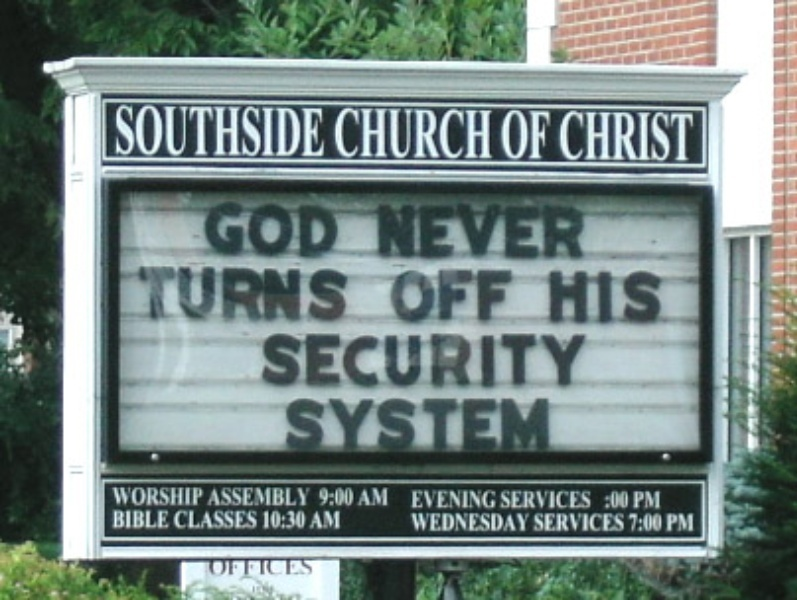text: (209, 200, 224, 259), (225, 200, 240, 259), (241, 200, 256, 259), (257, 200, 272, 259), (273, 200, 288, 259), (289, 200, 304, 259), (305, 200, 320, 259), (321, 200, 336, 259), (145, 263, 160, 322), (161, 263, 176, 322), (177, 263, 192, 322), (193, 263, 208, 322), (209, 263, 224, 322), (225, 263, 240, 322), (241, 263, 256, 322), (257, 263, 272, 322), (273, 263, 288, 322), (289, 263, 304, 322), (305, 263, 320, 322), (321, 263, 336, 322), (289, 395, 304, 454), (305, 395, 320, 454), (321, 395, 336, 454), (337, 395, 352, 454), (353, 395, 368, 454), (369, 395, 384, 454), (385, 395, 400, 454), (401, 395, 416, 454), (417, 395, 432, 454), (433, 395, 448, 454), (449, 395, 464, 454), (465, 395, 480, 454), (481, 395, 496, 454), (497, 395, 512, 454), (513, 395, 528, 454), (529, 395, 544, 454), (129, 103, 144, 160), (145, 103, 160, 160), (161, 103, 176, 160), (177, 103, 192, 160), (193, 103, 208, 160), (209, 103, 224, 160), (225, 103, 240, 160), (241, 103, 256, 160), (257, 103, 272, 160), (273, 103, 288, 160), (289, 103, 304, 160), (305, 103, 320, 160), (497, 269, 513, 322), (385, 204, 400, 259), (401, 204, 416, 259), (417, 204, 432, 259), (433, 204, 448, 259), (449, 204, 464, 259), (465, 204, 480, 259), (481, 204, 496, 259), (497, 204, 512, 259), (513, 204, 528, 259), (529, 204, 544, 259), (545, 204, 560, 259), (561, 204, 576, 259), (561, 269, 576, 324), (577, 269, 592, 324), (593, 269, 608, 324), (609, 269, 624, 324), (625, 269, 640, 324), (641, 269, 656, 324), (273, 332, 288, 387), (289, 332, 304, 387), (305, 332, 320, 387), (321, 332, 336, 387), (337, 332, 352, 387), (353, 332, 368, 387), (369, 332, 384, 387), (385, 332, 400, 387), (401, 332, 416, 387), (417, 332, 432, 387), (433, 332, 448, 387), (449, 332, 464, 387), (465, 332, 480, 387), (481, 332, 496, 387), (497, 332, 512, 387), (513, 332, 528, 387), (529, 332, 544, 387), (545, 332, 560, 387), (561, 332, 576, 387), (401, 269, 416, 322), (417, 269, 432, 322), (433, 269, 448, 322), (449, 269, 464, 322), (465, 269, 480, 322), (481, 269, 496, 322), (513, 109, 528, 160), (529, 109, 544, 160), (561, 109, 576, 160), (577, 109, 592, 160), (593, 109, 608, 160), (609, 109, 624, 160), (625, 109, 640, 160), (641, 109, 656, 160), (657, 109, 672, 160), (673, 109, 688, 160), (337, 107, 352, 158), (353, 107, 368, 158), (369, 107, 384, 158), (385, 107, 400, 158), (401, 107, 416, 158), (417, 107, 432, 158), (433, 107, 448, 158), (449, 107, 464, 158), (465, 107, 480, 158), (115, 103, 128, 160), (481, 107, 494, 158), (337, 263, 348, 322), (549, 269, 560, 324), (389, 269, 400, 322), (502, 109, 512, 160), (375, 204, 384, 259), (263, 332, 272, 387), (577, 332, 586, 387), (577, 204, 584, 259), (545, 395, 551, 454), (241, 508, 257, 529), (369, 486, 384, 508), (177, 508, 192, 529), (193, 508, 208, 529), (209, 508, 224, 529), (225, 508, 240, 529), (545, 109, 551, 160), (513, 512, 529, 531), (321, 486, 336, 506), (337, 486, 352, 506), (113, 486, 128, 506), (129, 486, 144, 506), (145, 486, 160, 506), (161, 486, 176, 506), (177, 486, 192, 506), (209, 486, 224, 506), (225, 486, 240, 506), (241, 486, 256, 506), (257, 486, 272, 506), (273, 486, 288, 506), (289, 486, 304, 506), (417, 488, 432, 508), (433, 488, 448, 508), (449, 488, 464, 508), (465, 488, 480, 508), (481, 488, 496, 508), (513, 490, 528, 510), (529, 490, 544, 510), (545, 490, 560, 510), (561, 490, 576, 510), (577, 490, 592, 510), (609, 490, 624, 510), (139, 263, 144, 322), (321, 103, 326, 160), (113, 510, 128, 529), (129, 510, 144, 529), (145, 510, 160, 529), (273, 510, 288, 529), (289, 510, 304, 529), (321, 510, 336, 529), (417, 512, 432, 531), (433, 512, 448, 531), (449, 512, 464, 531), (465, 512, 480, 531), (481, 512, 496, 531), (497, 512, 512, 531), (545, 512, 560, 531), (561, 512, 576, 531), (577, 512, 592, 531), (593, 512, 608, 531), (609, 512, 624, 531), (641, 514, 656, 533), (673, 514, 688, 533), (209, 557, 224, 575), (225, 557, 240, 575), (241, 557, 256, 575), (257, 557, 272, 575), (273, 557, 288, 575), (289, 557, 304, 575), (641, 490, 656, 508), (500, 490, 512, 510), (204, 200, 208, 259), (308, 510, 320, 529), (628, 514, 640, 533), (193, 486, 204, 506), (657, 269, 661, 324), (358, 486, 368, 508), (533, 512, 544, 531), (689, 109, 693, 160), (285, 395, 288, 454), (161, 510, 170, 529), (263, 510, 272, 529), (557, 109, 560, 160), (632, 490, 640, 508), (665, 514, 672, 533), (305, 557, 312, 575), (657, 514, 663, 533), (689, 514, 695, 533), (334, 107, 336, 158), (305, 486, 310, 506), (411, 488, 416, 508), (625, 490, 630, 510), (337, 510, 342, 529), (411, 512, 416, 531), (385, 486, 389, 508), (172, 508, 176, 529), (604, 490, 608, 510), (657, 490, 661, 508), (337, 200, 338, 259), (318, 486, 320, 506), (206, 486, 208, 506), (353, 486, 354, 506), (111, 486, 112, 506), (497, 488, 498, 508), (305, 510, 306, 529), (625, 512, 626, 531)
